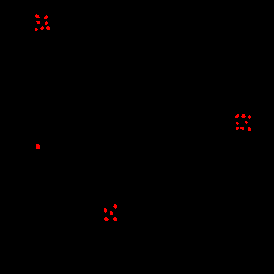Target: (35, 14, 40, 18), (241, 114, 246, 118), (36, 144, 40, 149), (113, 204, 117, 209), (104, 217, 109, 221), (44, 15, 48, 19), (40, 26, 44, 30), (46, 26, 50, 30), (235, 114, 239, 118), (113, 217, 117, 221), (104, 208, 107, 213), (36, 21, 40, 24), (45, 21, 48, 25), (248, 115, 251, 119), (240, 127, 244, 130), (248, 127, 251, 131), (110, 211, 113, 215), (35, 28, 38, 31), (245, 121, 248, 124), (236, 122, 239, 125), (236, 127, 239, 130)
